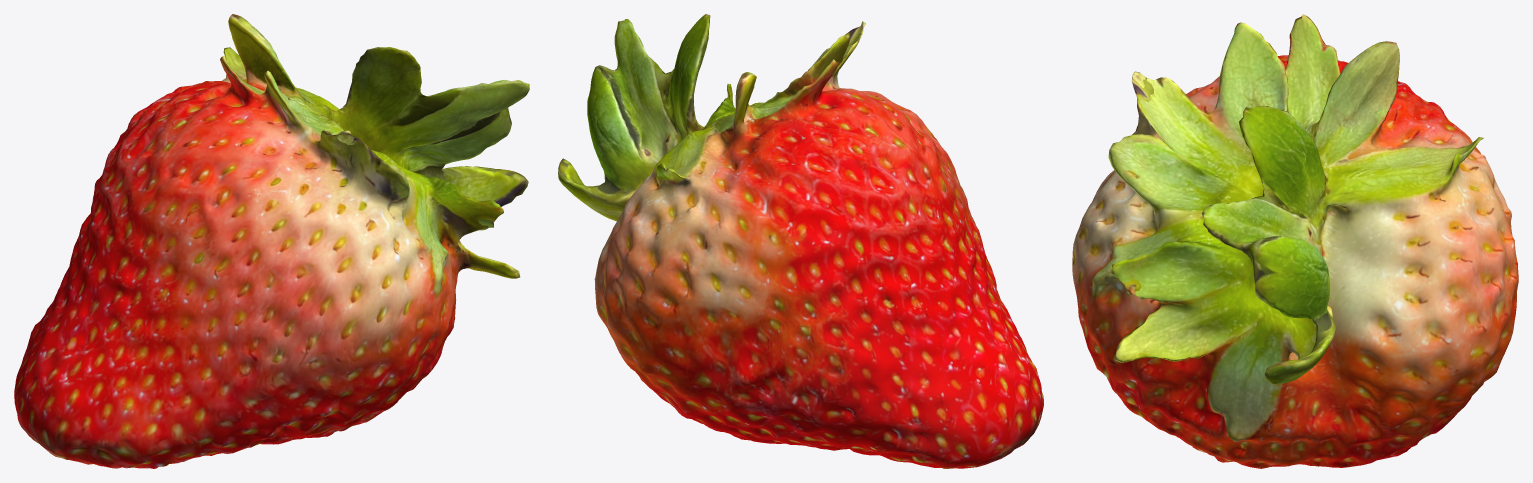
Rendered from strawberry.glb.
3 views of the same model, side by side, from view 1: azimuth 30°, elevation 25°; view 2: azimuth 150°, elevation 25°; view 3: azimuth 270°, elevation 25° (orthographic). The views are drawn at different scales.
Parts seen in each view (by area): view 1: Object_2; view 2: Object_2; view 3: Object_2.
Part boxes in pixels (left/top/right/bottom): Object_2: left=14, top=14, right=529, bottom=468; Object_2: left=558, top=14, right=1043, bottom=468; Object_2: left=1072, top=14, right=1518, bottom=468.
Bounding box in the file's own units: 0.51 × 0.3687 × 0.3685.
1 material, 1 textured.
